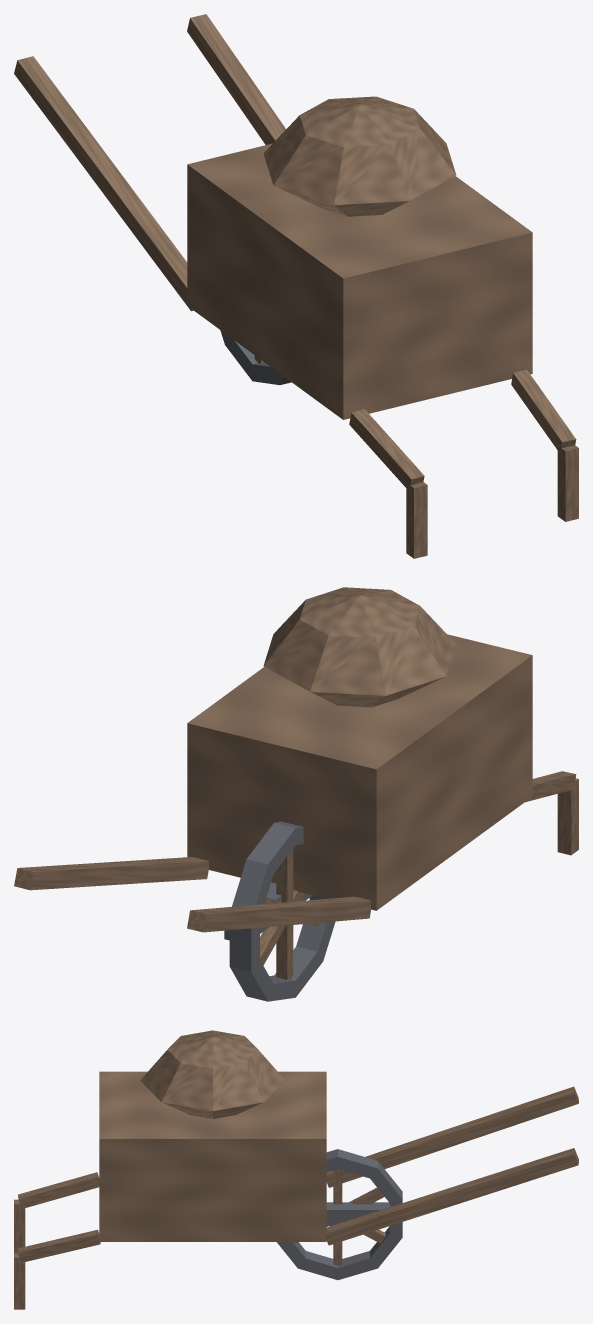
3 views of the same model, one above another, from view 1: azimuth 30°, elevation 25°; view 2: azimuth 150°, elevation 25°; view 3: azimuth 270°, elevation 25° (orthographic). The views are drawn at different scales.
Visible parts, largest first — view 1: wheelbarrow; view 2: wheelbarrow; view 3: wheelbarrow.
Part boxes in pixels (x1=…): wheelbarrow: x1=14, y1=14, x2=578, y2=558; wheelbarrow: x1=14, y1=587, x2=578, y2=1001; wheelbarrow: x1=14, y1=1030, x2=578, y2=1309.
Bounding box in the file's own units: 0.7004 × 1.18 × 2.49.
2 materials, 1 textured.
